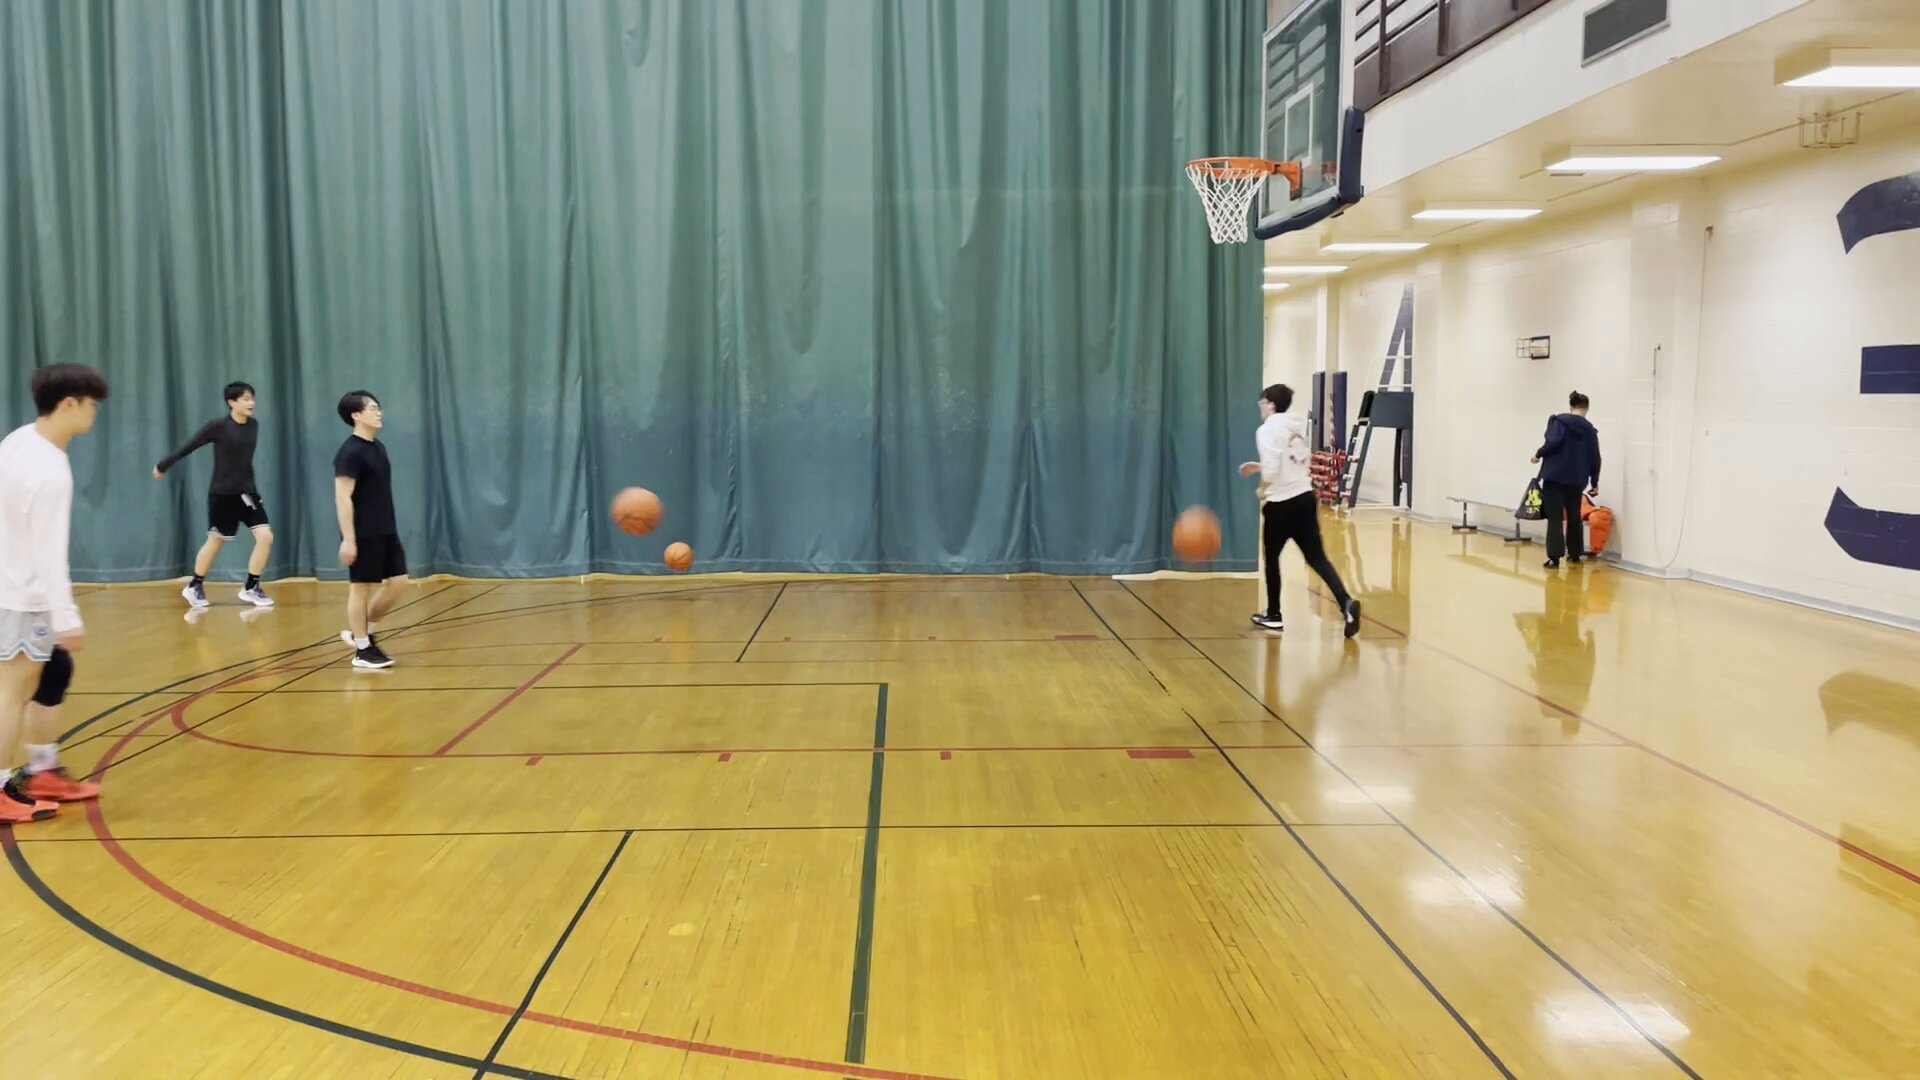ball: (1172, 511, 1225, 565), (610, 484, 660, 538), (663, 543, 696, 574)
net: (1198, 220, 1257, 250)
player: (1, 351, 122, 830), (1240, 383, 1373, 645), (155, 381, 281, 612), (321, 392, 412, 674), (1538, 391, 1602, 570)
rim: (1182, 150, 1279, 184)
